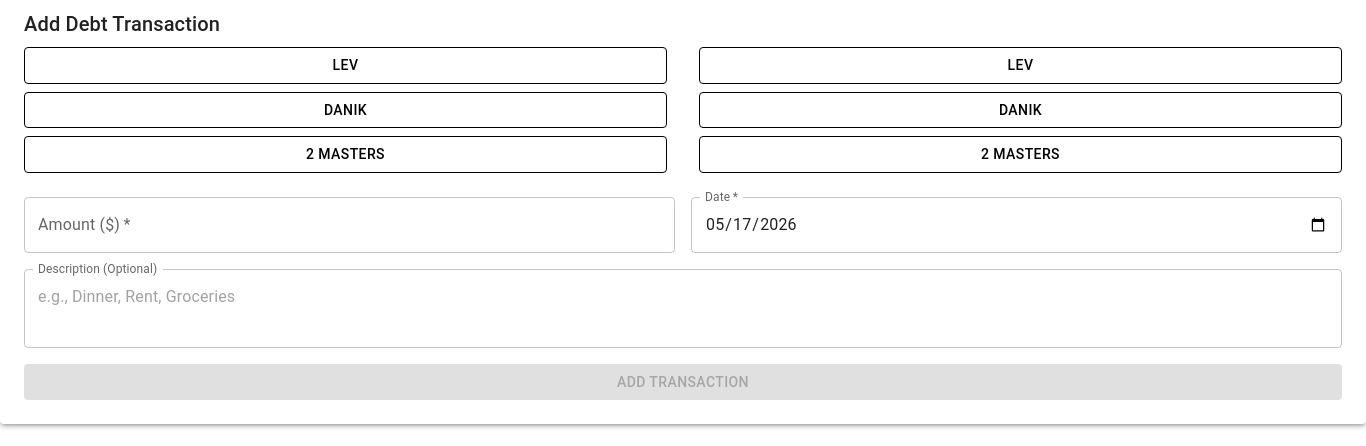
TransactionForm › enables submit button when all required fields are filled
The image size is (1366, 446).
// Select sender entity (Lev)
Click the 1st button "Lev" at (346, 65), box [24, 47, 667, 84]
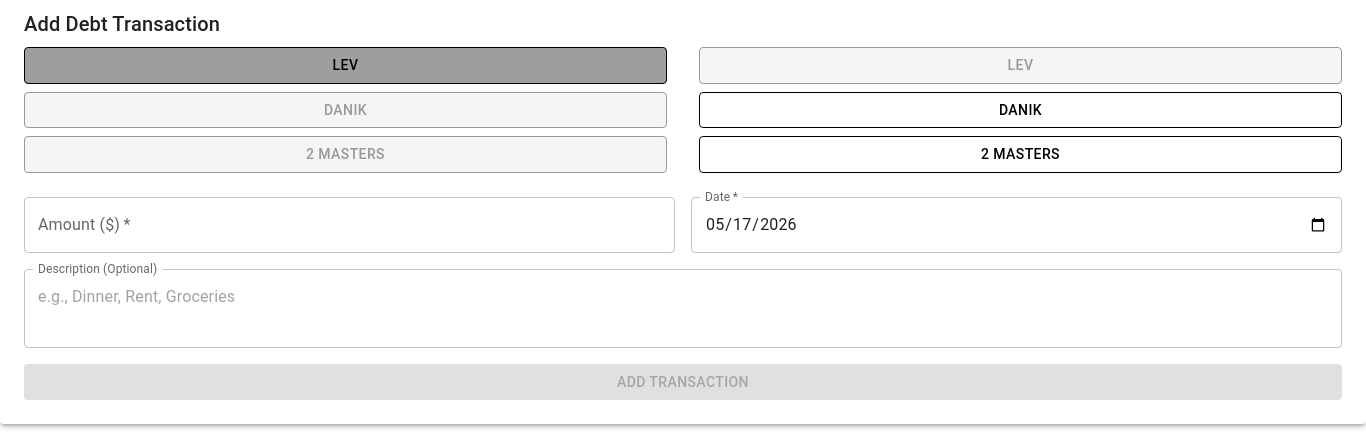
// Select receiver entity (Danik)
Click the 2nd button "Danik" at (1020, 110), box [699, 92, 1342, 128]
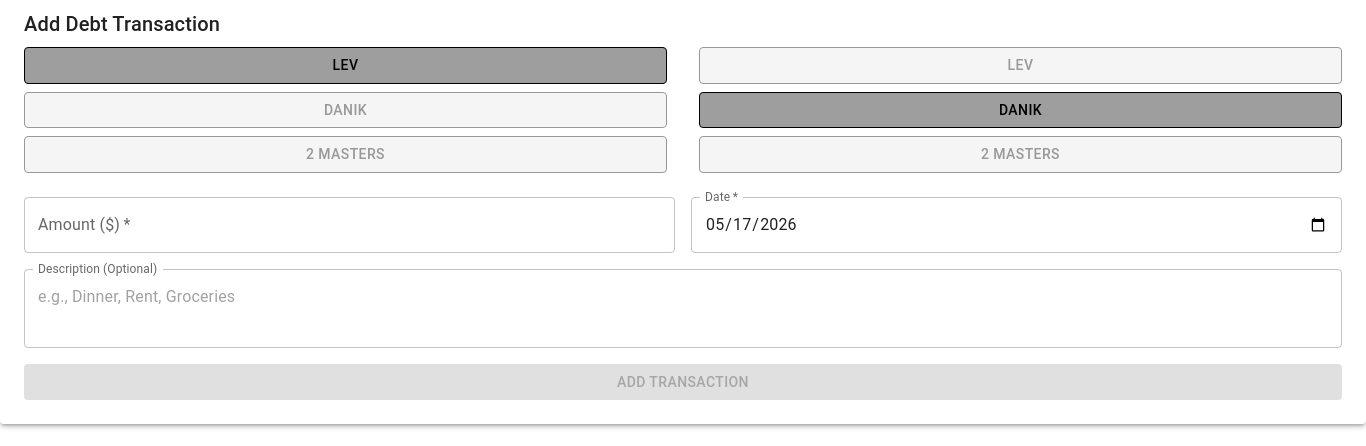
// Enter amount
Type "100" into the number field labelled "Amount ($) *" at (350, 224), box [24, 196, 675, 252]
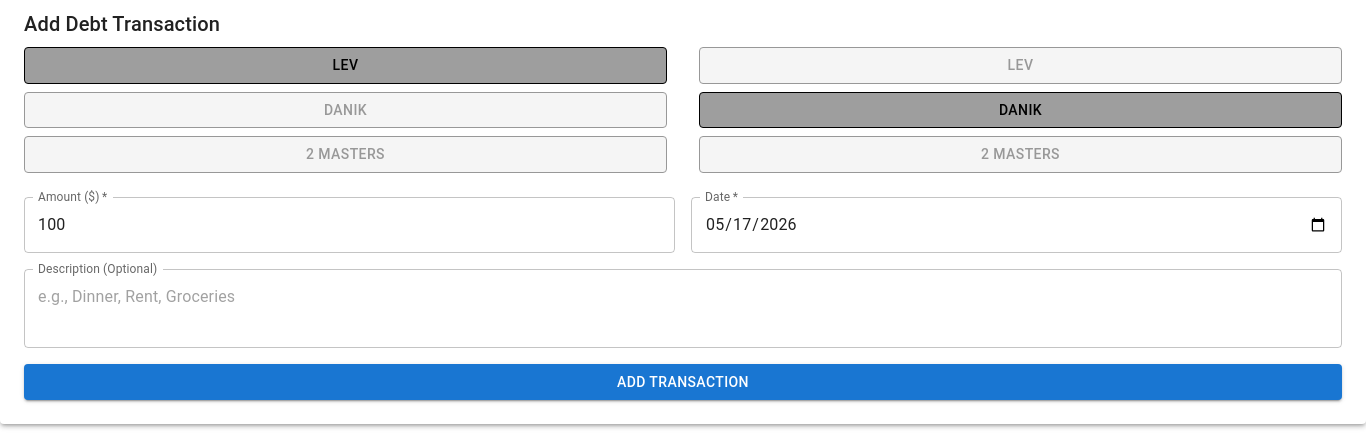
Check: the button "Add Transaction" is enabled, box [24, 364, 1342, 400]
